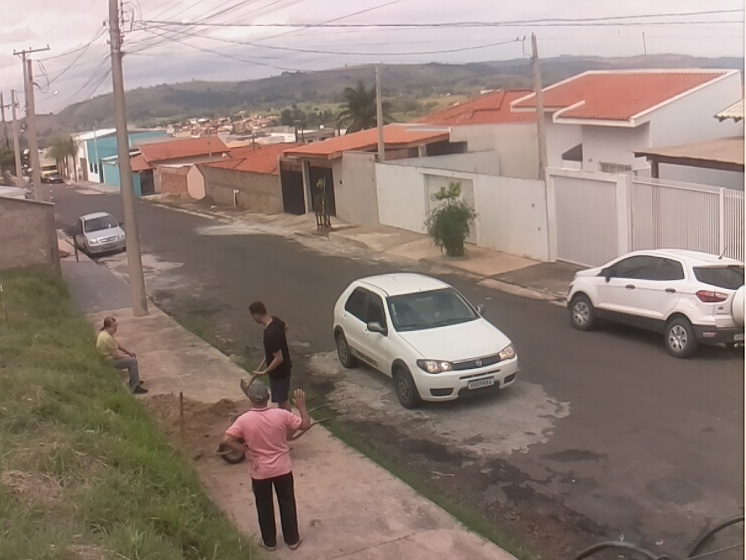person: (220, 381, 313, 551), (247, 301, 293, 412), (93, 315, 149, 395)
